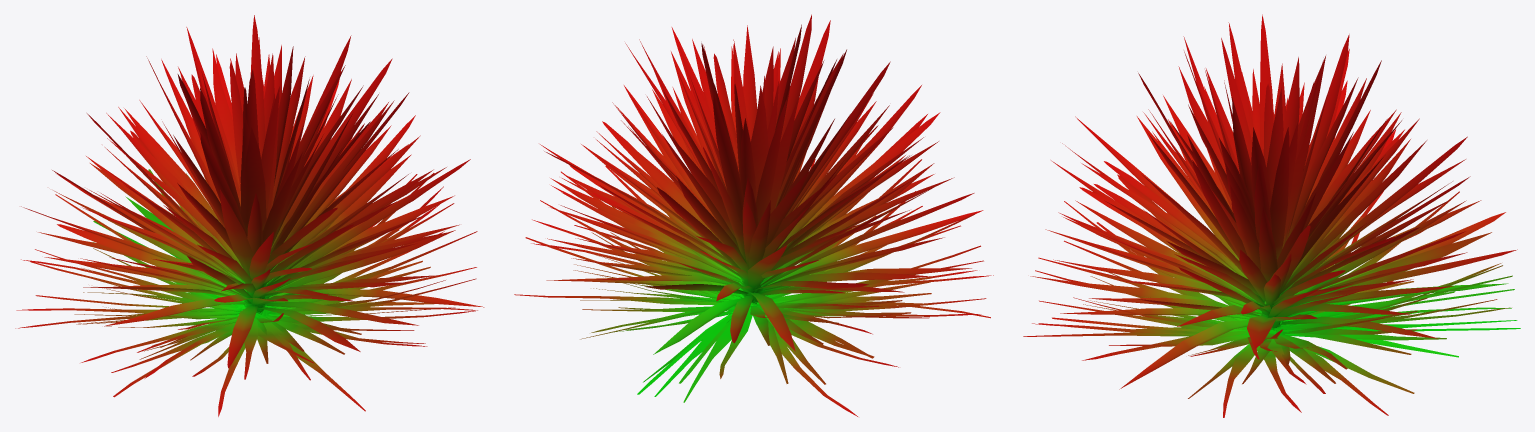
The model's file is Var10_LOD4.fbx.
3 renders of one model, left to right at view 1: azimuth 30°, elevation 25°; view 2: azimuth 150°, elevation 25°; view 3: azimuth 270°, elevation 25°, orthographic. The views are drawn at different scales.
Parts seen in each view (by area): view 1: _nik9_Var10_LOD4; view 2: _nik9_Var10_LOD4; view 3: _nik9_Var10_LOD4.
Part boxes in pixels (box(x1,y1,x2,y2)): _nik9_Var10_LOD4: box(15, 15, 484, 416); _nik9_Var10_LOD4: box(514, 14, 993, 416); _nik9_Var10_LOD4: box(1023, 14, 1520, 417).
Bounding box in the file's own units: 98.26 × 67.82 × 98.66.
